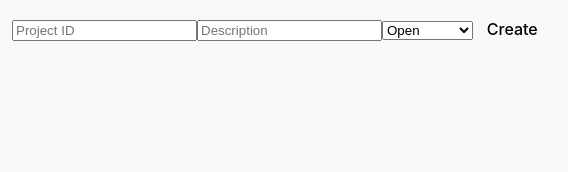
WorkOrderForm › Error Handling › displays error message on API failure
This screenshot has width=568, height=172.
// Fill required fields
Type "123" into the field with placeholder "Project ID" at [104, 31], box [12, 20, 197, 41]
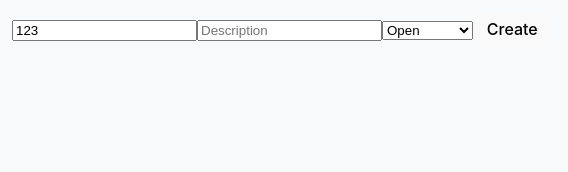
Type "Test work order" into the field with placeholder "Description" at [290, 31], box [197, 20, 382, 41]
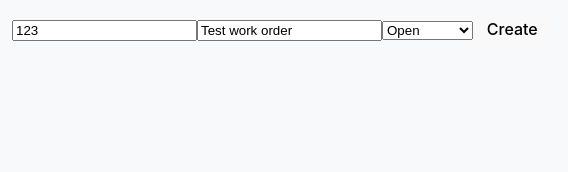
// Submit form
Click the button "Create" at [512, 29], box [473, 12, 552, 47]
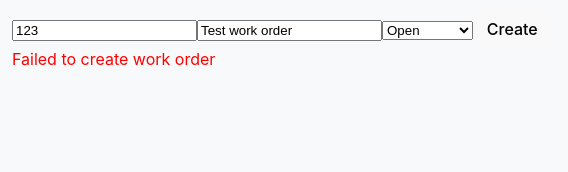
Expected: the text "Failed to create work order" is shown, [12, 49, 215, 69]
